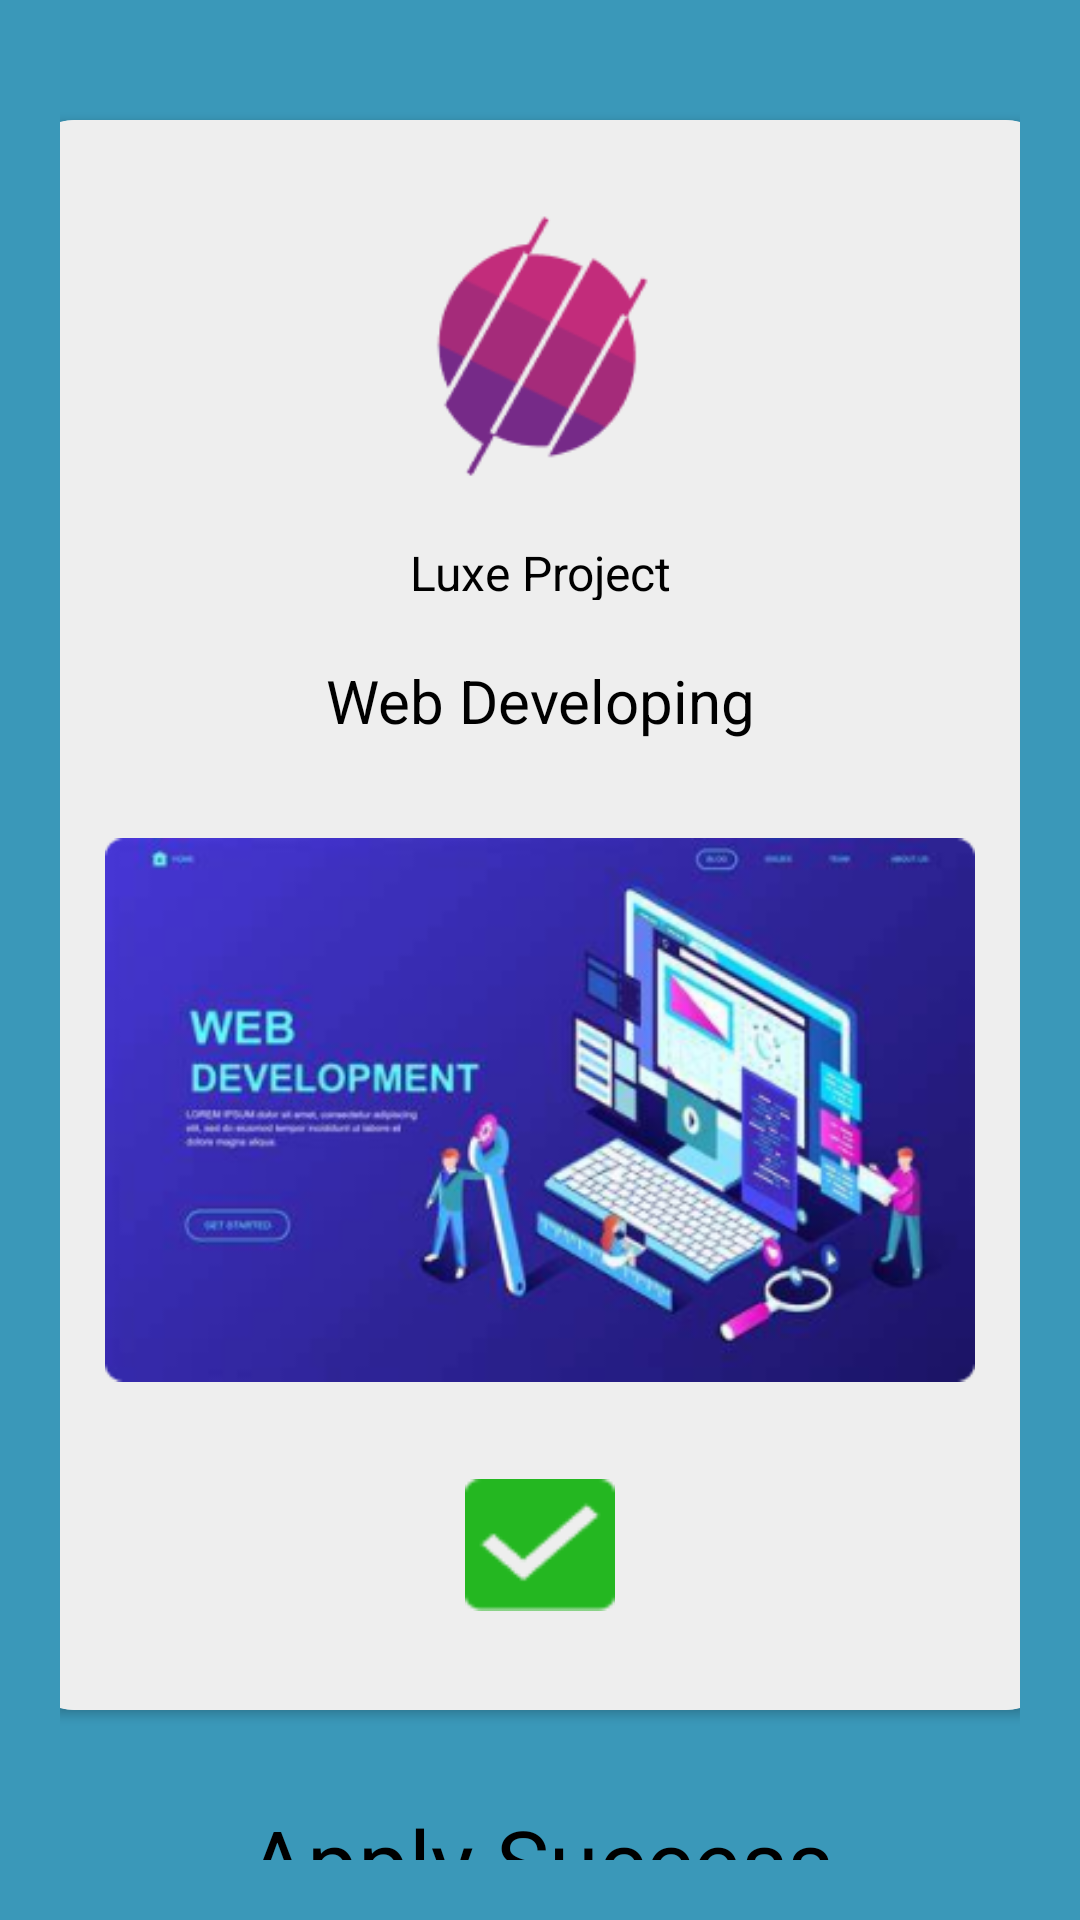

Screen size 1080x1920. Icon name, then its center in pixels as [x,y]:
checkbox: [540,1545]
